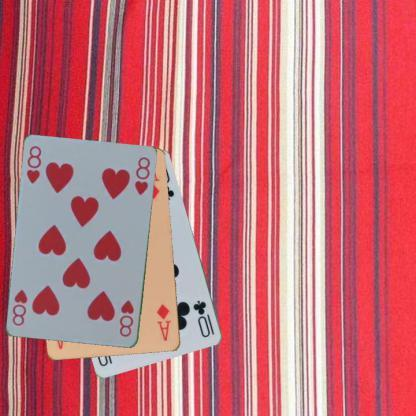10c: (191, 298, 216, 340)
8h: (24, 143, 43, 185), (116, 298, 135, 338)
Ad: (154, 301, 173, 343)
